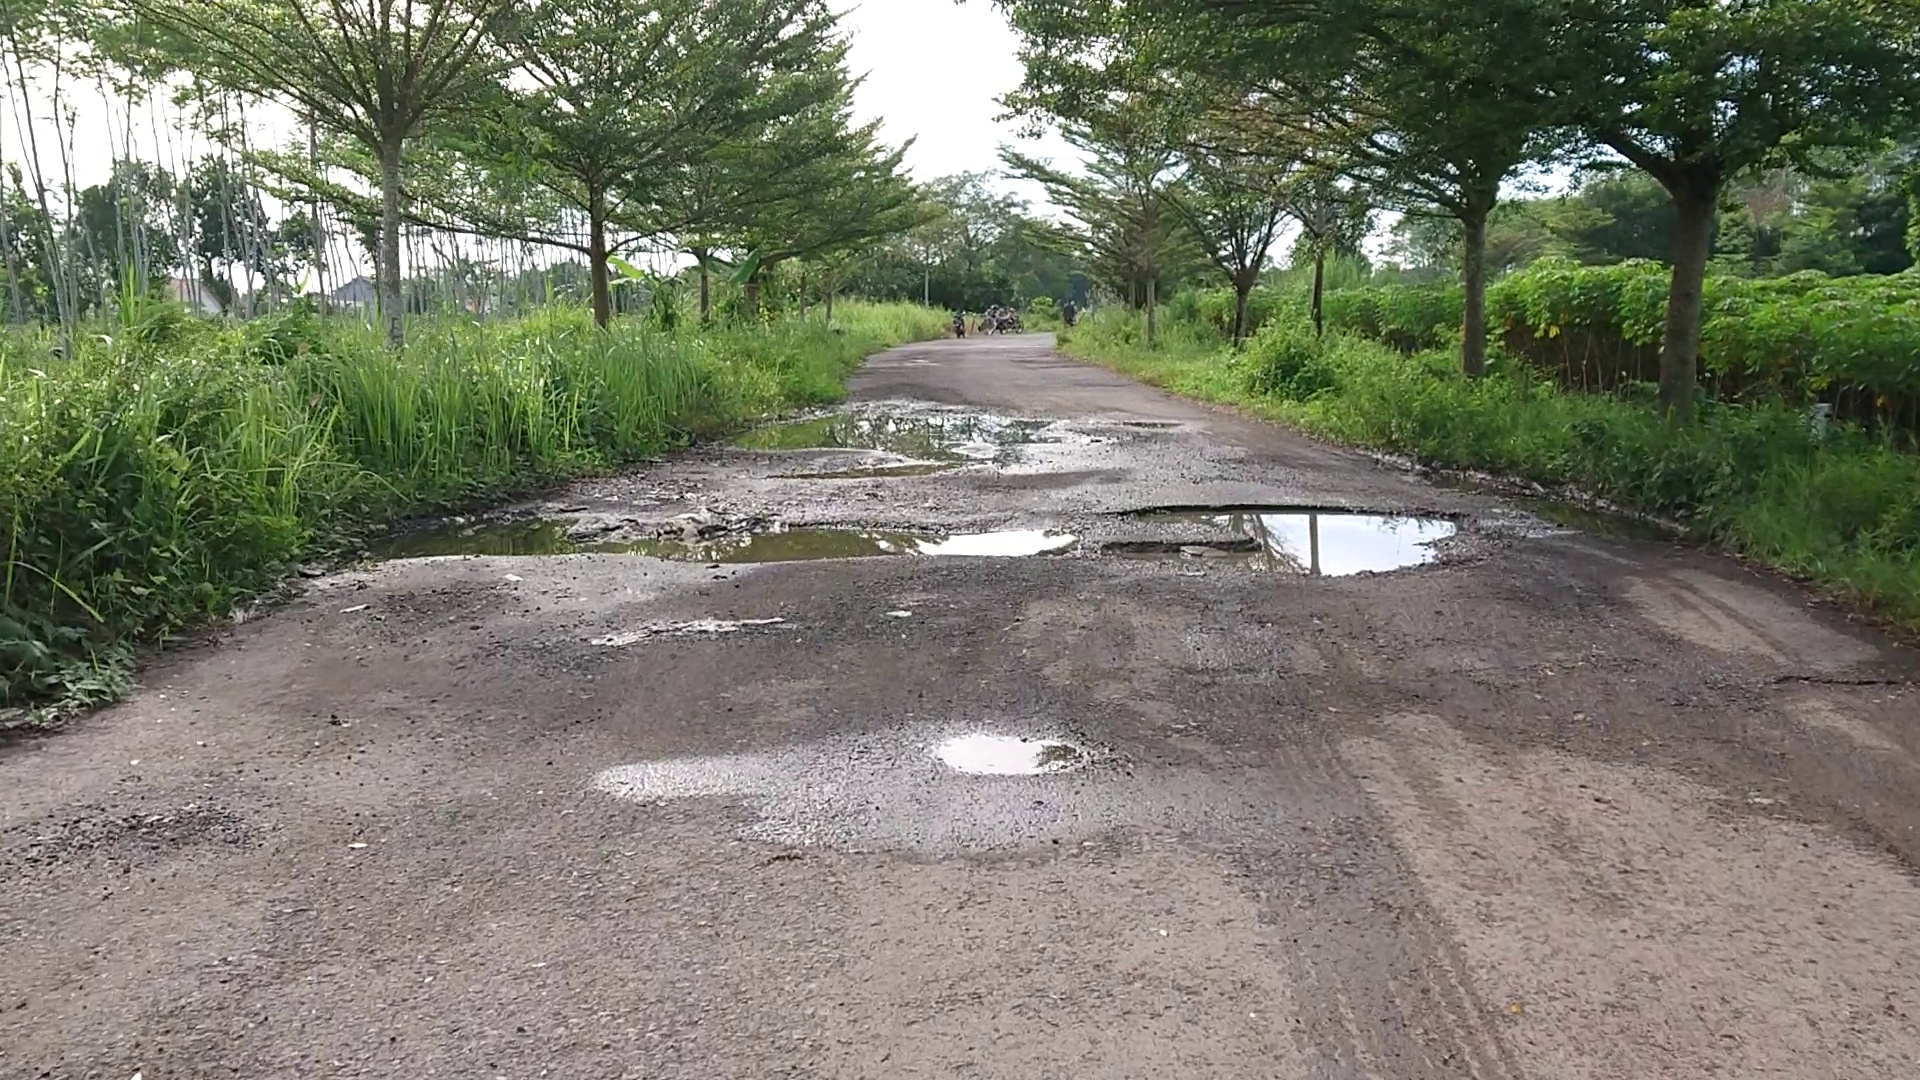Berlubang: (774, 397, 1118, 472), (1121, 512, 1469, 578), (419, 506, 709, 560), (731, 529, 1095, 558)
